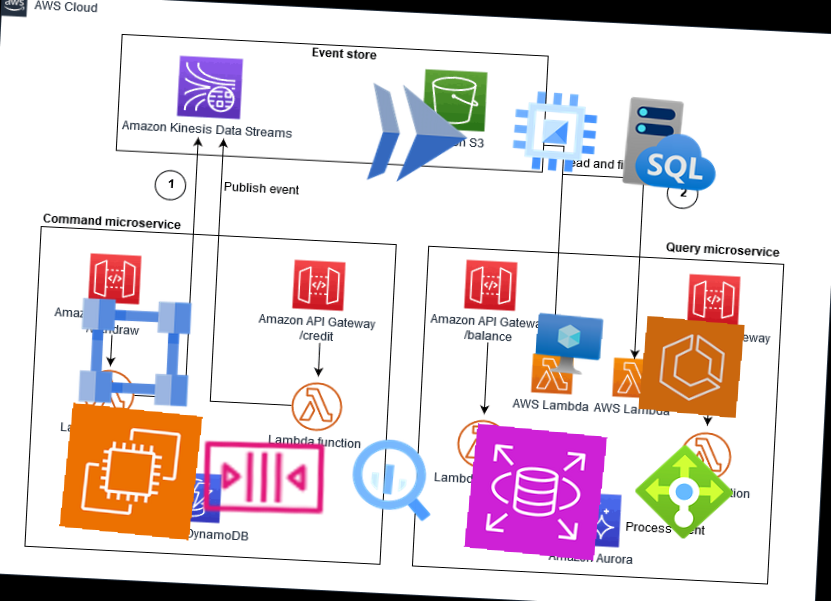aws_amazon_ec2: (58, 402, 203, 540)
aws_amazon_elastic_container_service: (637, 314, 745, 418)
aws_amazon_rds: (463, 422, 608, 561)
aws_simple_queue_service_queue: (193, 408, 334, 543)
azure_load_balancers: (631, 440, 737, 542)
azure_sql_managed_instance: (618, 92, 726, 196)
azure_virtual_machine: (532, 311, 604, 380)
gcp_bigquery: (338, 426, 447, 531)
gcp_cloud_run: (346, 67, 486, 201)
gcp_compute_engine: (501, 80, 608, 182)
gcp_virtual_private_cloud: (65, 285, 204, 418)
